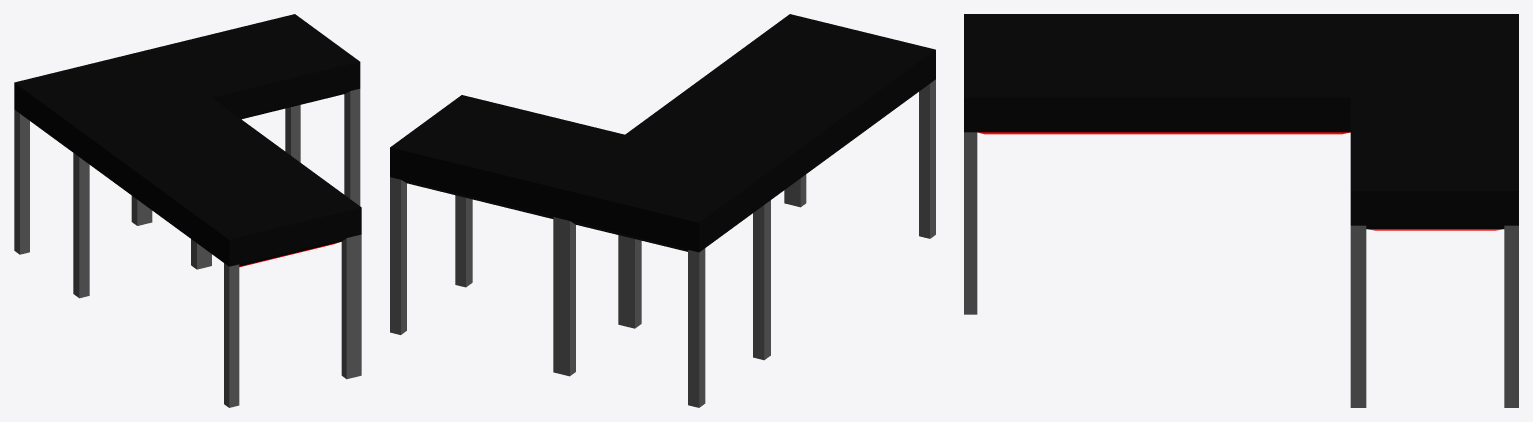
Rendered from table.glb.
3 renders of one model, left to right at view 1: azimuth 30°, elevation 25°; view 2: azimuth 150°, elevation 25°; view 3: azimuth 270°, elevation 25°, orthographic. The views are drawn at different scales.
Parts seen in each view (by area): view 1: table; view 2: table; view 3: table.
Boxes of the visible parts, x1,y1,x2,y2 form: table: (14,14,361,407); table: (390,14,935,407); table: (964,14,1518,407).
Size of the model in its own units: 2.41 by 1.38 by 3.19.
